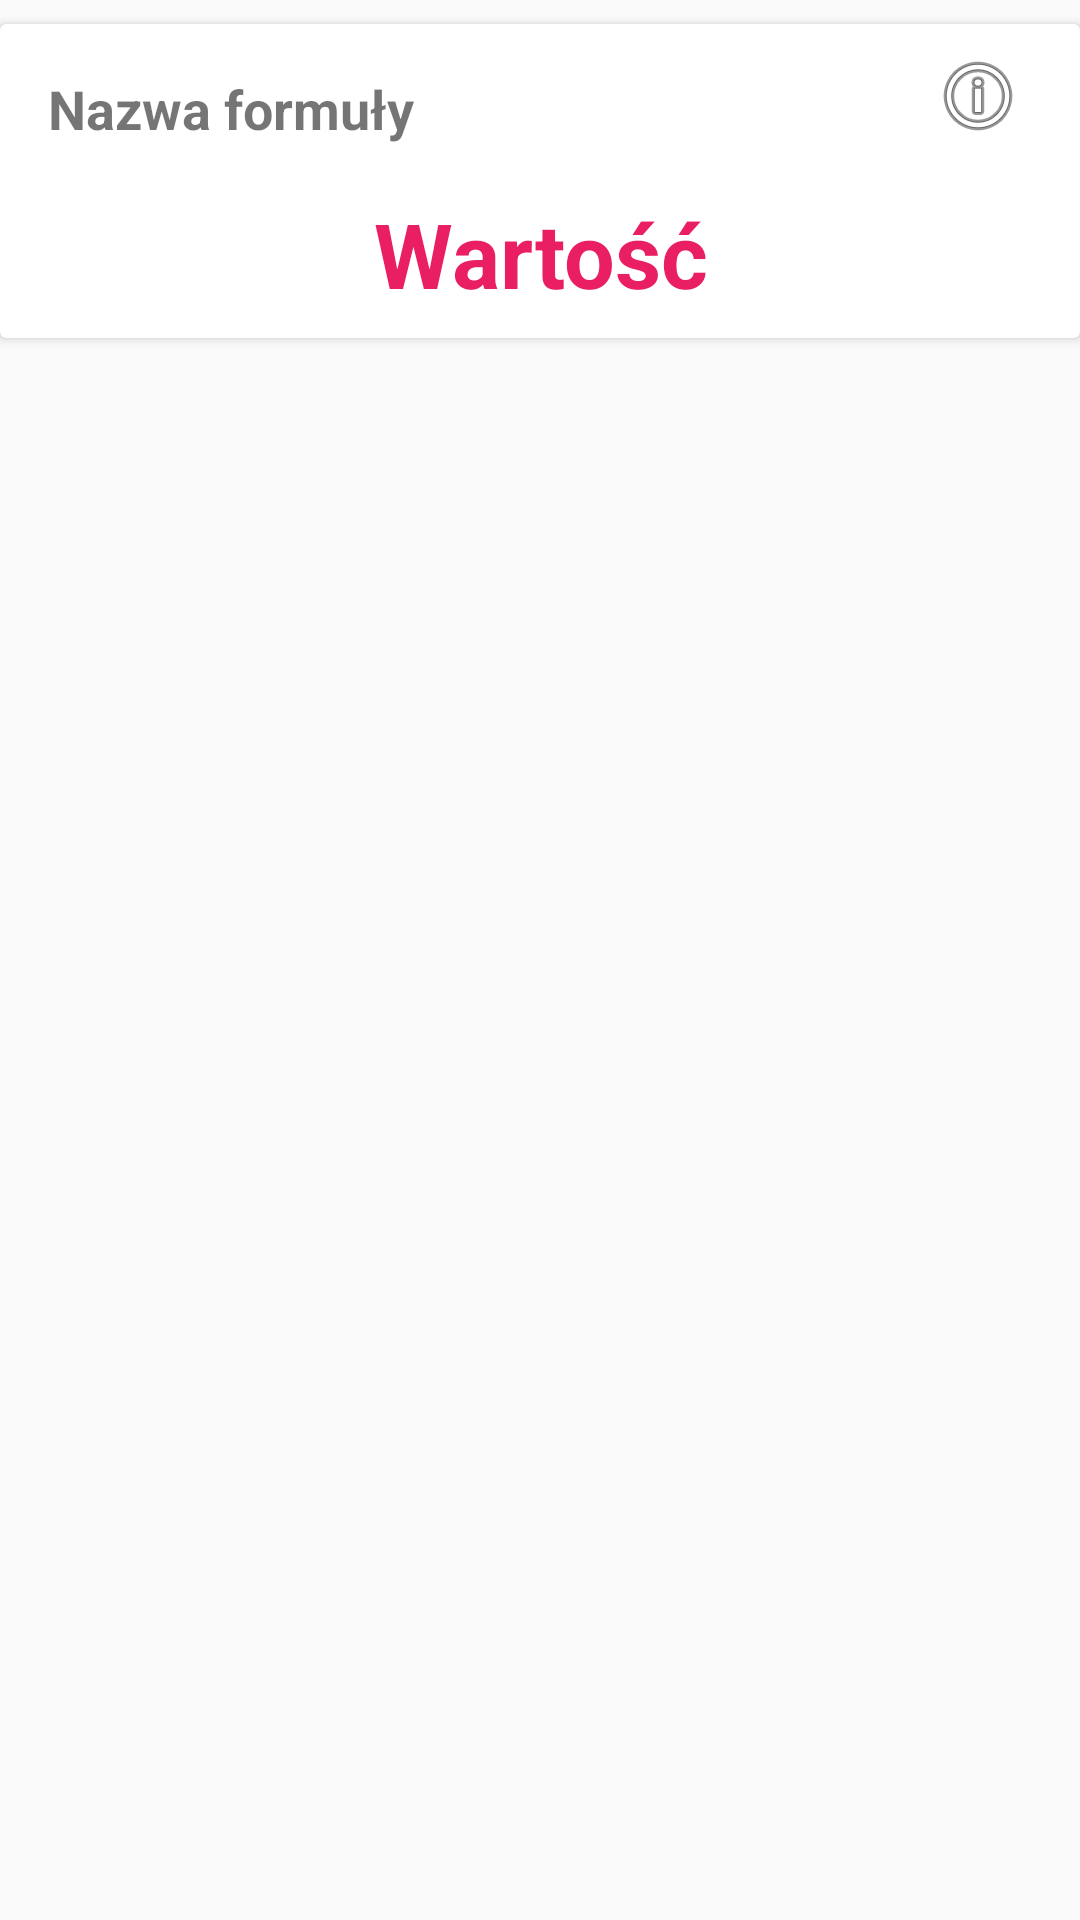

Screen size 1080 × 1920. Icon name, then its box in pixels as [x1=x1, y1=y1, x2=x2, y2=y2]:
info details: [x1=943, y1=61, x2=1013, y2=131]
